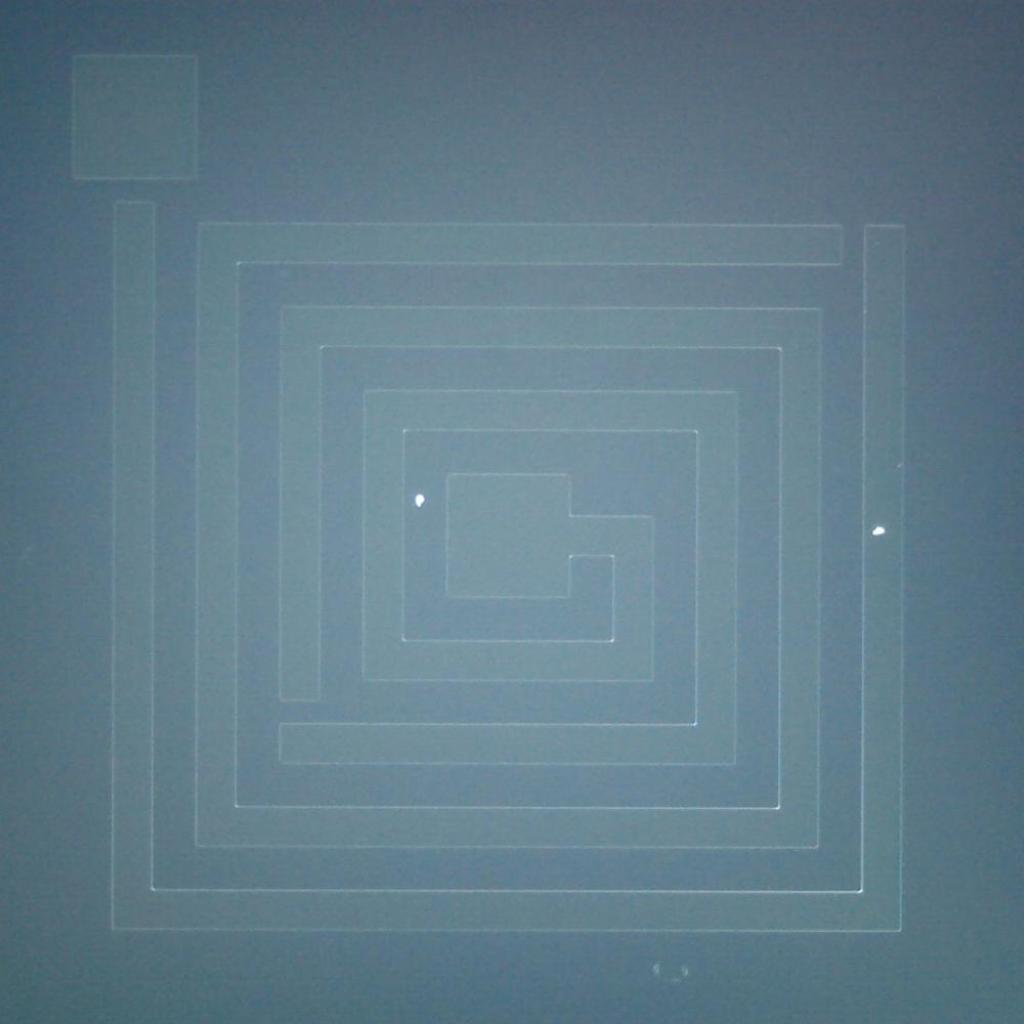short circuit: (103, 161, 170, 229), (821, 214, 881, 282), (270, 686, 329, 741)
spot: (865, 518, 894, 546), (408, 489, 433, 515)
